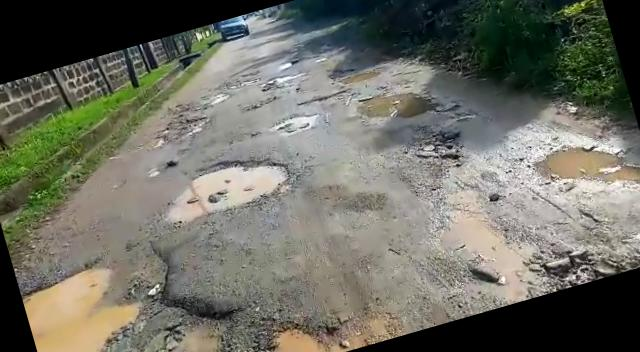pothole: (17, 223, 253, 352), (152, 140, 306, 230), (530, 219, 640, 296), (528, 125, 637, 198), (355, 78, 445, 130), (398, 125, 464, 180), (148, 111, 214, 152), (294, 84, 360, 110), (272, 108, 321, 138)
